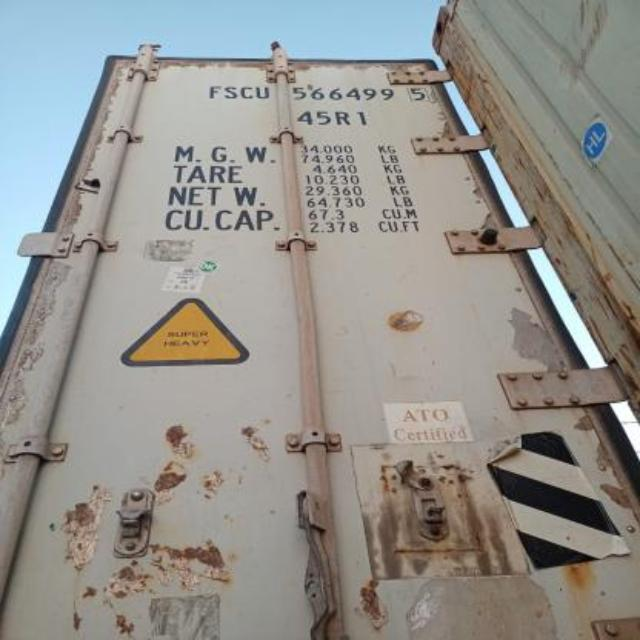4: (342, 80, 362, 102)
5: (408, 82, 432, 106), (289, 80, 307, 104)
6: (304, 78, 324, 102), (328, 81, 342, 102)
9: (377, 78, 397, 104), (364, 80, 376, 104)
C: (238, 75, 254, 99)
F: (204, 80, 220, 100)
S: (221, 80, 237, 100)
U: (254, 78, 270, 102)
